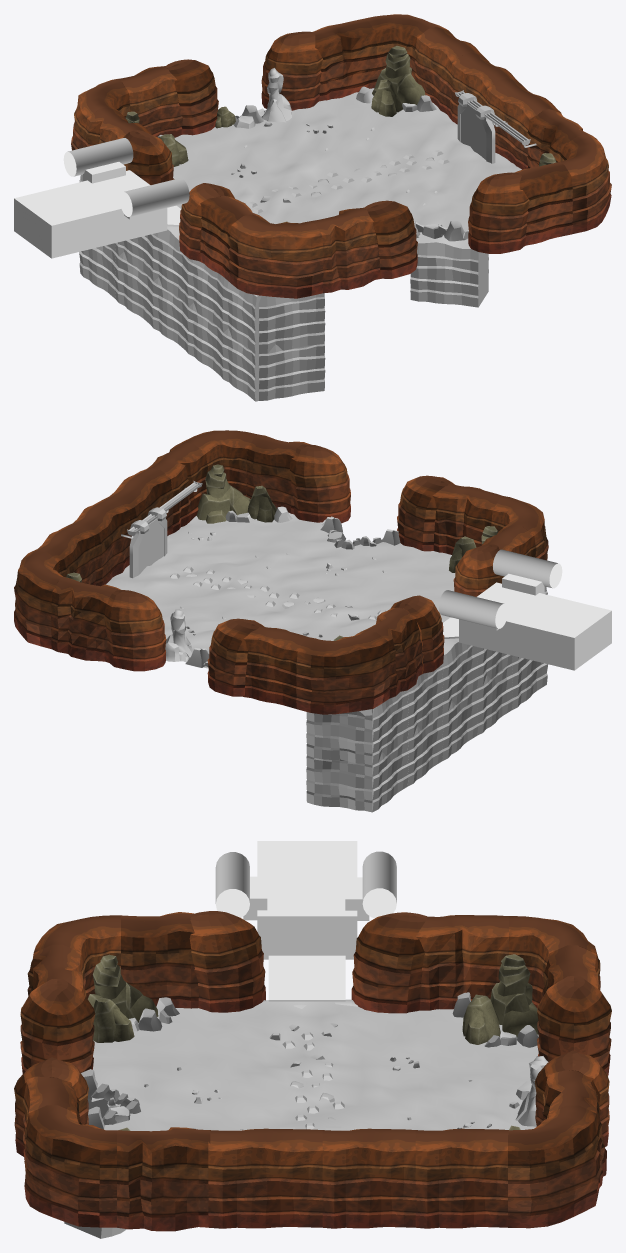
Rendered from lvl1Initial_Alpha.FBX.
The picture shows the model from 3 angles, top to bottom: view 1: azimuth 30°, elevation 25°; view 2: azimuth 150°, elevation 25°; view 3: azimuth 270°, elevation 25°; orthographic projection. The views are drawn at different scales.
Visible parts, largest first — view 1: level1_wall003, Plane074, level1_wall01, Box093, Stone070, level1_door, GigaRock001, MiddleRock, ColumnRock, level1_doorrail; view 2: level1_wall003, Plane074, level1_wall01, Box093, Stone070, GigaRock001, level1_door, MiddleRock, ColumnRock, level1_doorrail; view 3: level1_wall003, Plane074, Box093, Stone070, GigaRock001, MiddleRock, ColumnRock, level1_wall01.
Boxes of the visible parts, x1,y1,x2,y2 form: level1_wall003: (71, 14, 611, 298); Plane074: (173, 88, 521, 231); level1_wall01: (79, 174, 488, 401); Box093: (14, 138, 189, 258); Stone070: (157, 86, 468, 241); level1_door: (457, 93, 495, 163); GigaRock001: (125, 46, 556, 222); MiddleRock: (159, 79, 402, 166); ColumnRock: (261, 68, 291, 122); level1_doorrail: (455, 90, 536, 147); level1_wall003: (14, 430, 548, 714); Plane074: (106, 513, 455, 668); level1_wall01: (306, 586, 548, 812); Box093: (438, 549, 611, 670); Stone070: (170, 506, 400, 667); GigaRock001: (66, 464, 497, 640); level1_door: (129, 507, 167, 578); MiddleRock: (247, 485, 476, 572); ColumnRock: (165, 609, 192, 661); level1_doorrail: (121, 481, 202, 538); level1_wall003: (14, 911, 611, 1231); Plane074: (91, 1001, 538, 1131); Box093: (215, 841, 396, 1001); Stone070: (81, 992, 538, 1129); GigaRock001: (87, 954, 538, 1130); MiddleRock: (93, 994, 500, 1044); ColumnRock: (515, 1056, 548, 1126); level1_wall01: (64, 999, 358, 1238).
Bounding box in the file's own units: 1292 × 450 × 1011.
